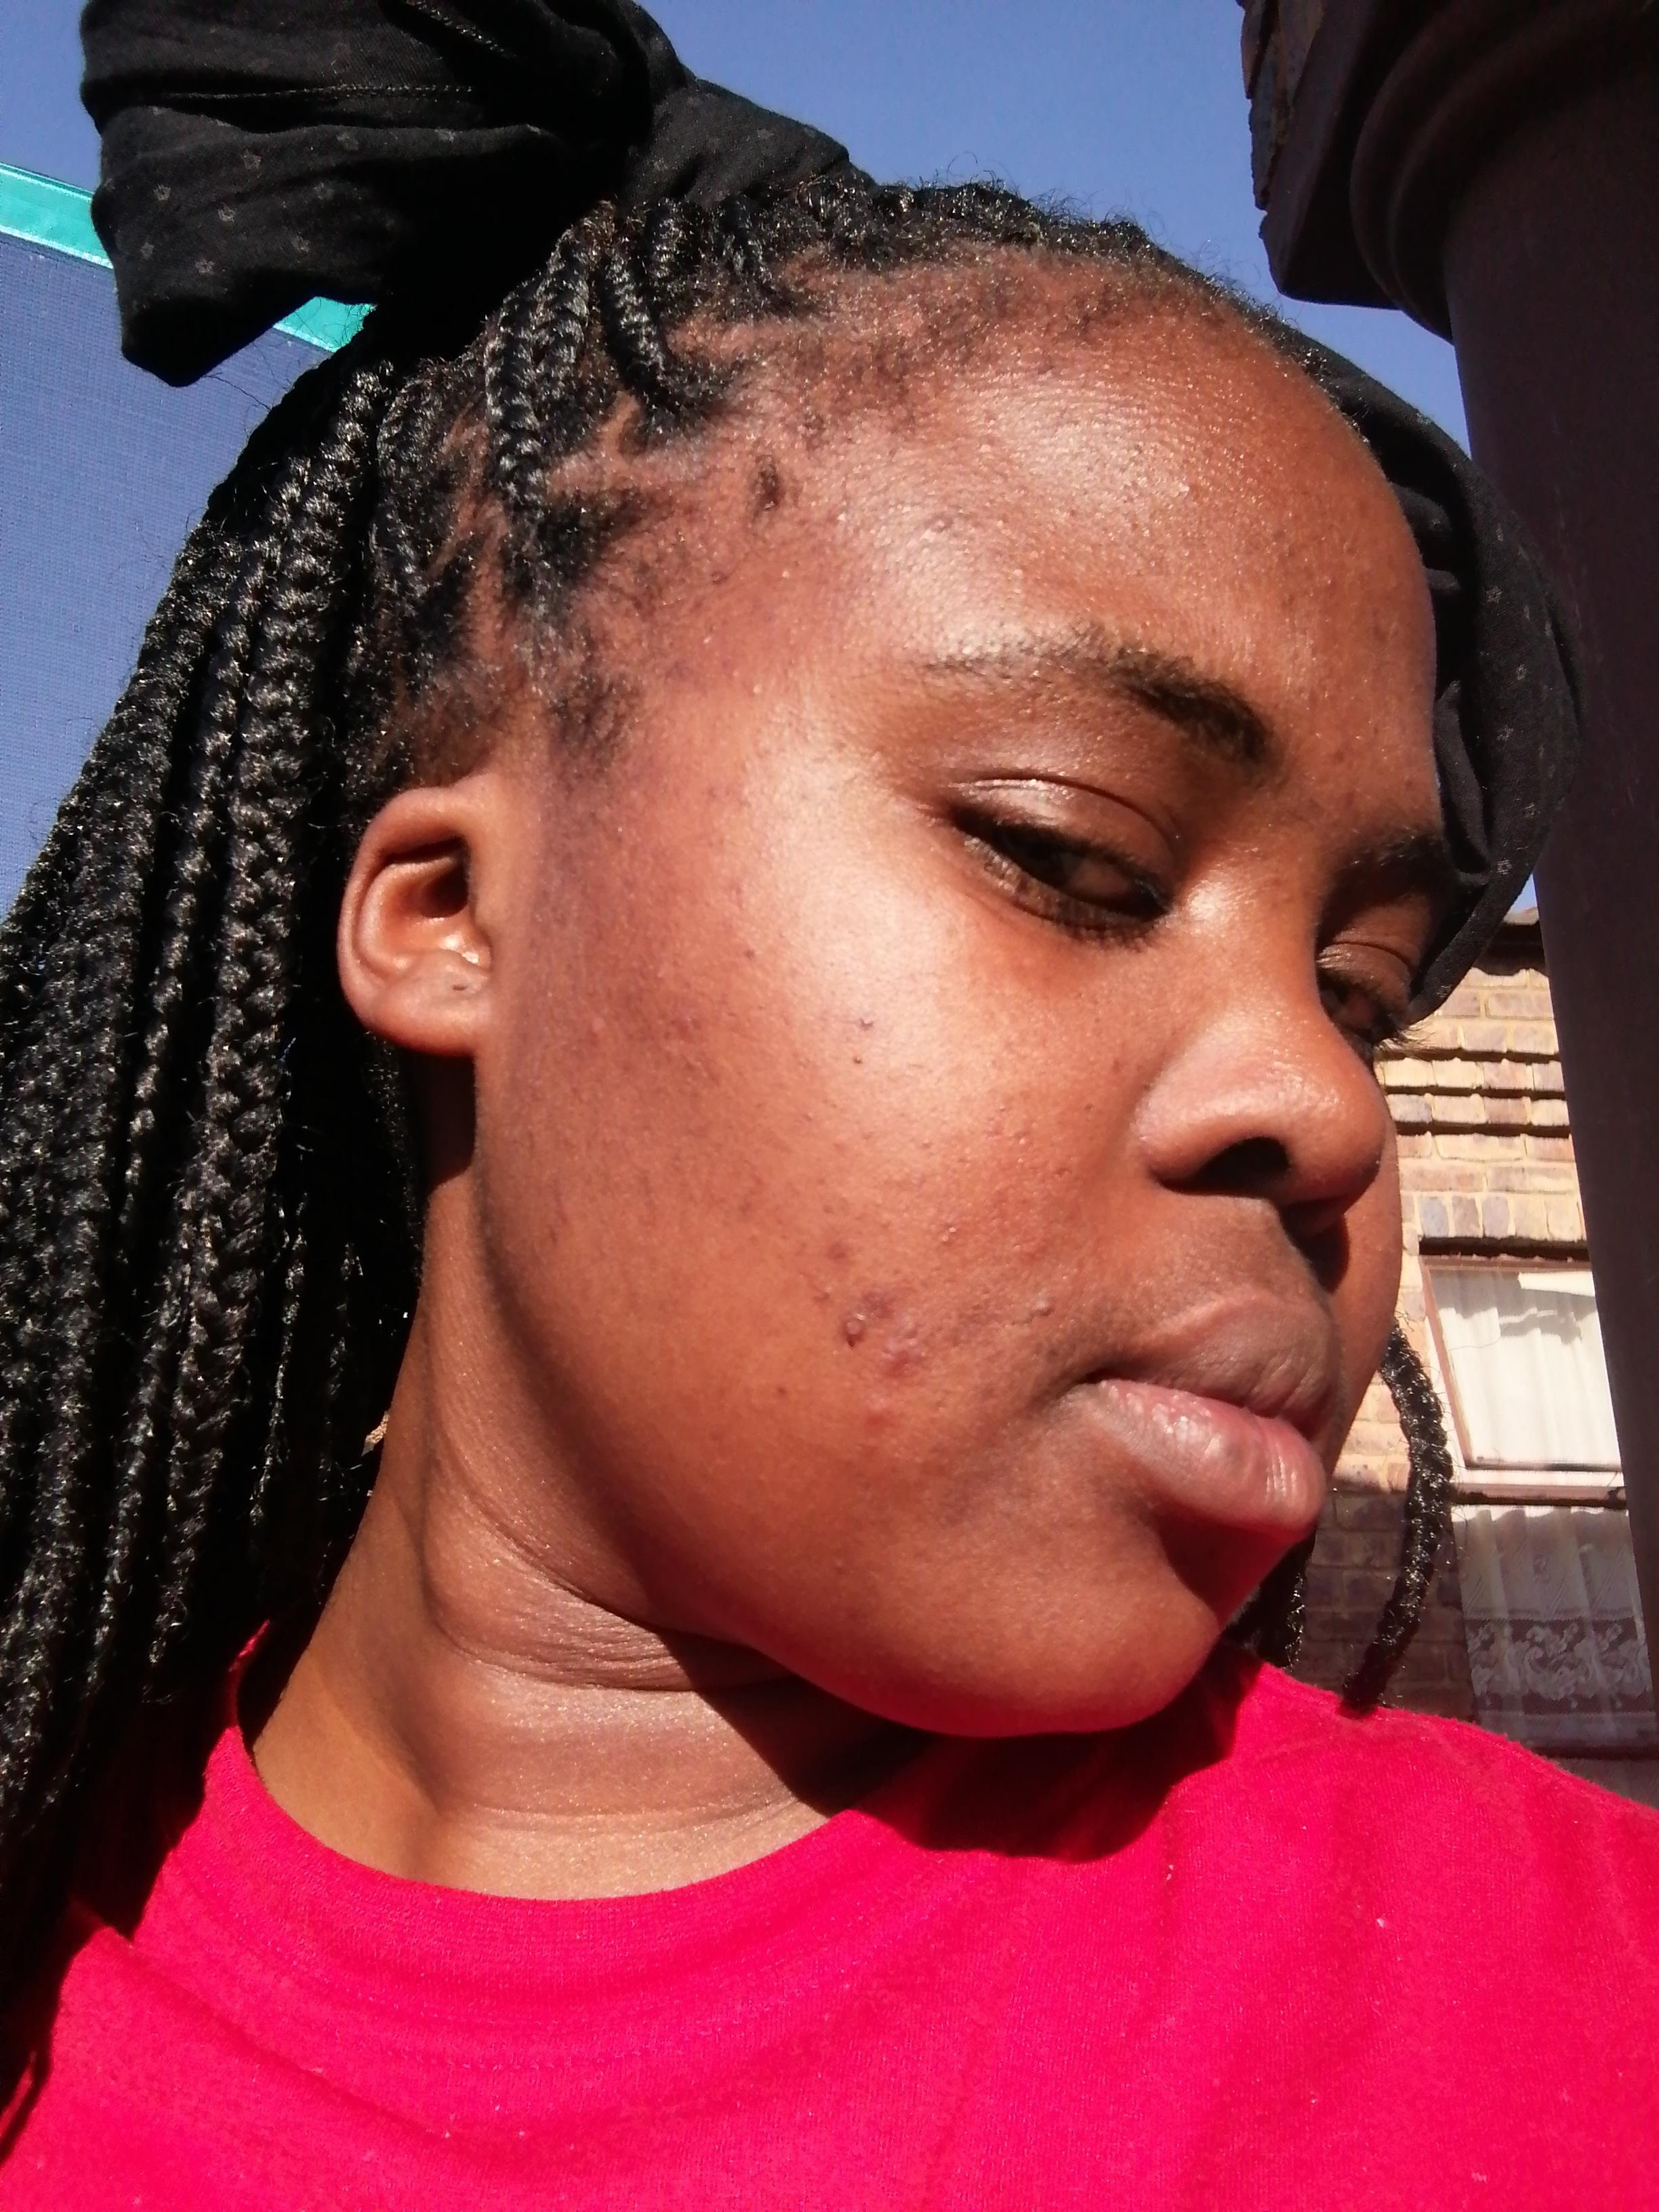Acne: (873, 1312, 938, 1381), (833, 1291, 899, 1345), (861, 1392, 904, 1444), (718, 662, 769, 700), (697, 780, 762, 810), (552, 1172, 580, 1240), (917, 507, 965, 542), (565, 1012, 612, 1047), (929, 1217, 962, 1256), (824, 1226, 856, 1266), (1026, 1287, 1061, 1322), (767, 559, 803, 590), (993, 559, 1033, 587), (1312, 740, 1351, 768), (1169, 477, 1206, 503), (828, 500, 857, 531), (852, 1005, 882, 1036), (1094, 1050, 1124, 1082), (823, 1129, 856, 1157), (1009, 1120, 1039, 1150), (1053, 502, 1084, 528), (826, 1550, 852, 1576), (974, 434, 1002, 456), (988, 512, 1016, 535), (1276, 500, 1305, 521), (1317, 566, 1342, 590), (843, 1050, 873, 1068), (1394, 770, 1413, 792)
